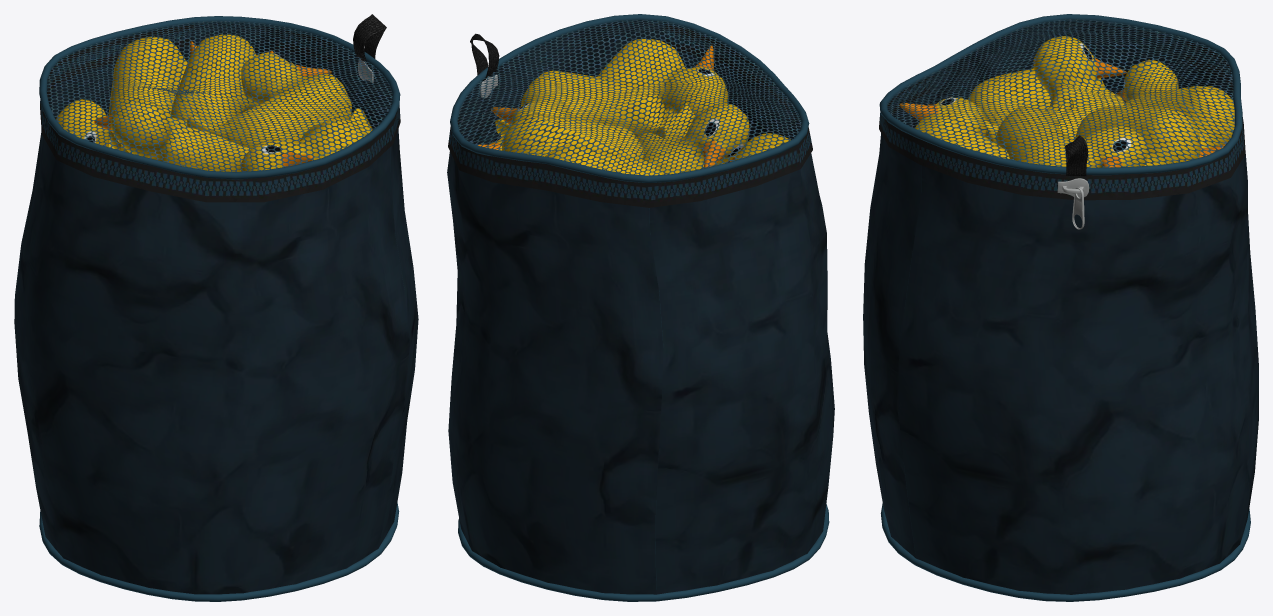
File: plastic-duck-transformed.glb
3 renders of one model, left to right at view 1: azimuth 30°, elevation 25°; view 2: azimuth 150°, elevation 25°; view 3: azimuth 270°, elevation 25°, orthographic.
Visible parts, largest first — view 1: Line002_PlasticDuck_bag_0; view 2: Line002_PlasticDuck_bag_0; view 3: Line002_PlasticDuck_bag_0.
Part boxes in pixels (x1,y1,x2,y2): Line002_PlasticDuck_bag_0: (14, 14, 418, 601); Line002_PlasticDuck_bag_0: (447, 14, 834, 601); Line002_PlasticDuck_bag_0: (863, 14, 1258, 601).
Size of the model in its own units: 0.2632 by 0.3321 by 0.2554.
1 material, 1 textured.
